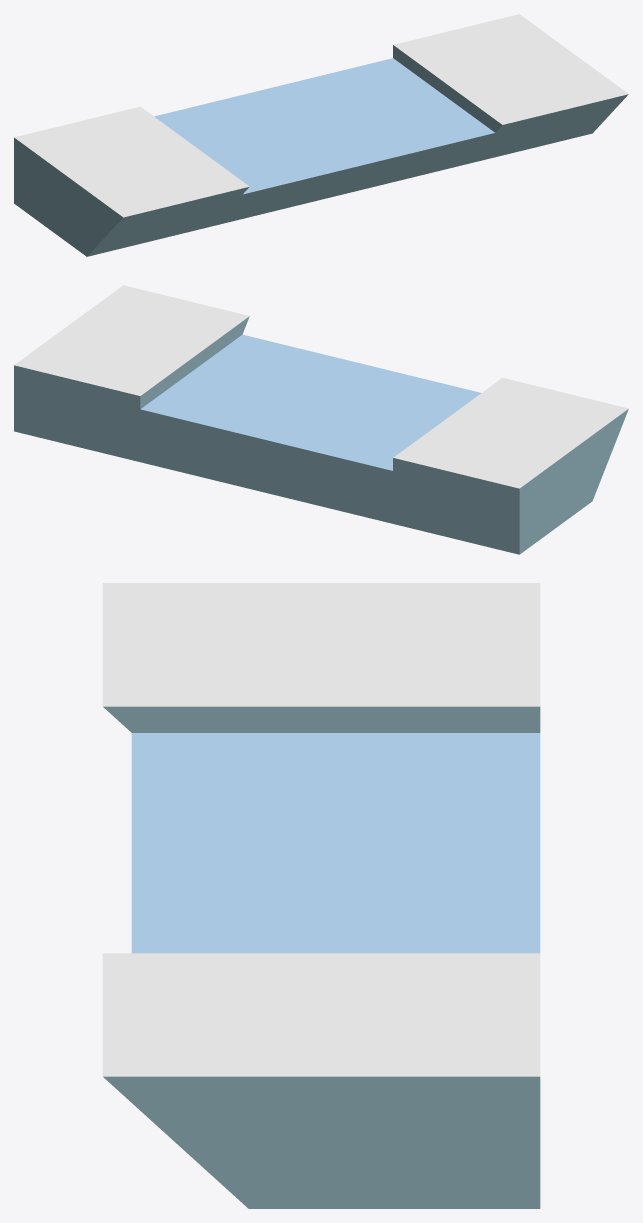
Rendered from Terrain_Tile_Ice_Snow_Ledge_River_04.fbx.
3 renders of one model, top to bottom at view 1: azimuth 30°, elevation 25°; view 2: azimuth 150°, elevation 25°; view 3: azimuth 270°, elevation 25°, orthographic. The views are drawn at different scales.
Parts seen in each view (by area): view 1: Model; view 2: Model; view 3: Model.
Boxes of the visible parts, <box> form: Model: <box>14,14,628,256</box>; Model: <box>14,285,628,554</box>; Model: <box>102,583,540,1208</box>.
Size of the model in its own units: 2000 by 250 by 750.
